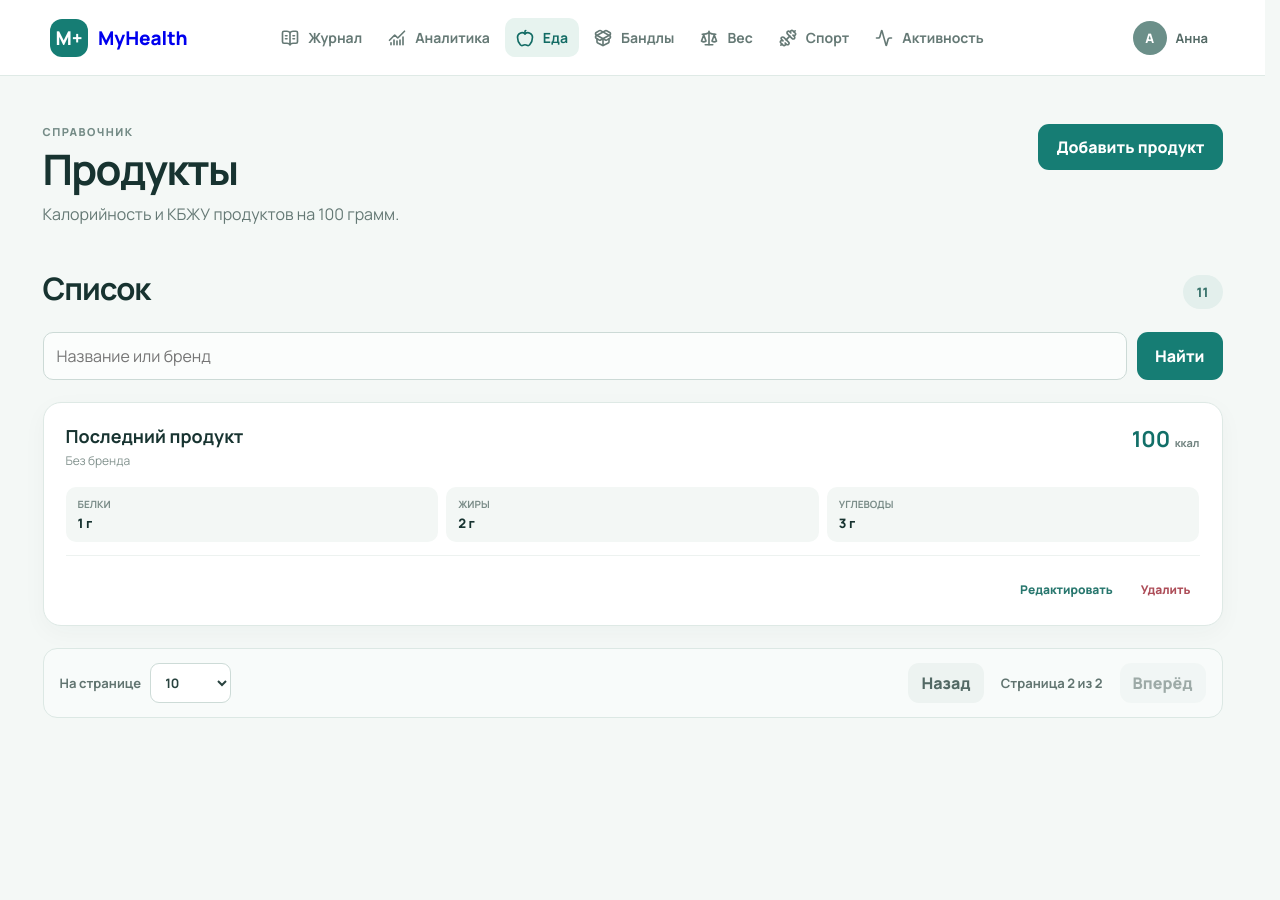
Test: удаление с последней страницы каталога › переходит на последнюю существующую страницу
Expected: the heading "Последний продукт" is shown, [66,424,244,448]
Click the button "Удалить" at (1166, 589), box [1132,569,1200,609]
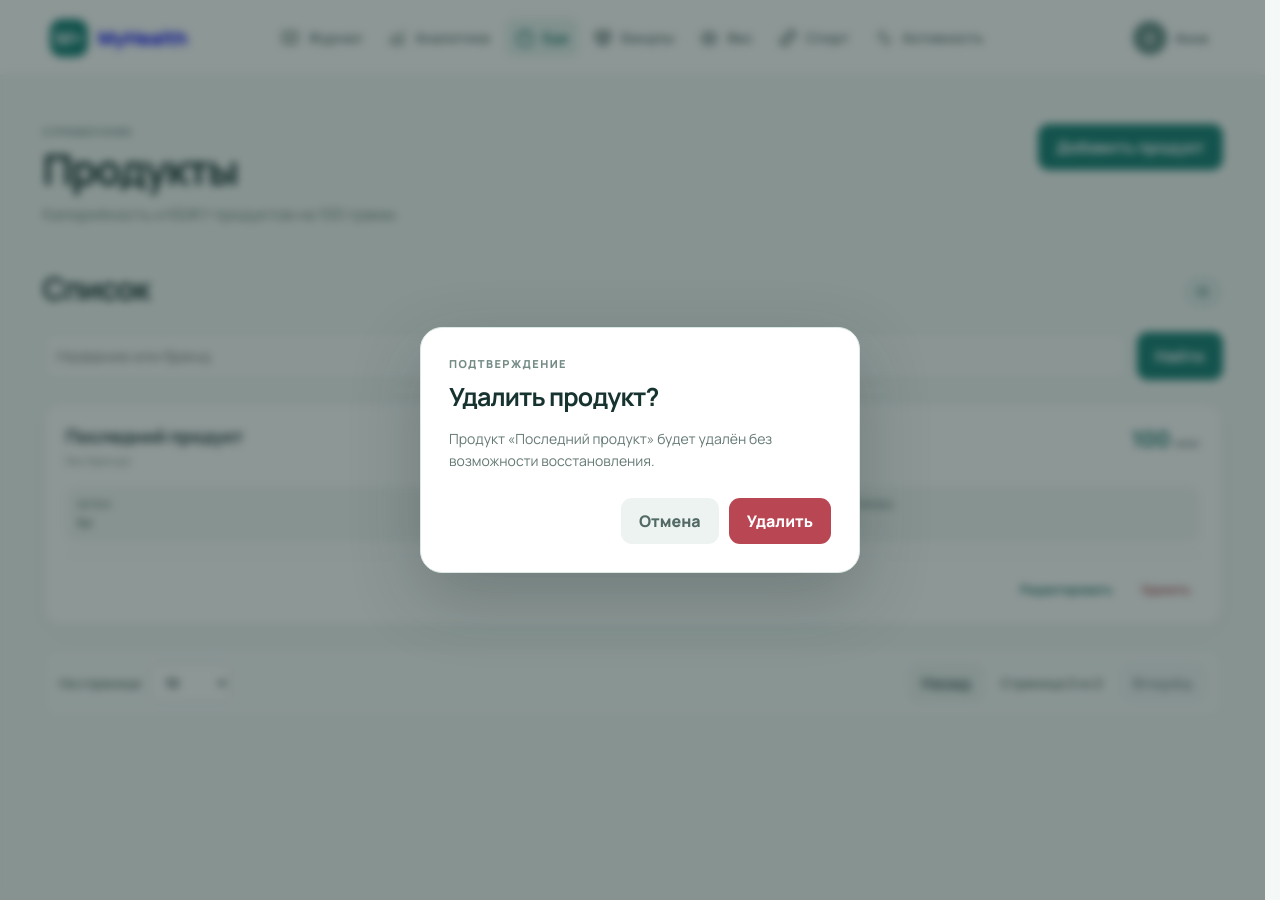
Click the button "Удалить" at (780, 521), box [729,498,831,544]
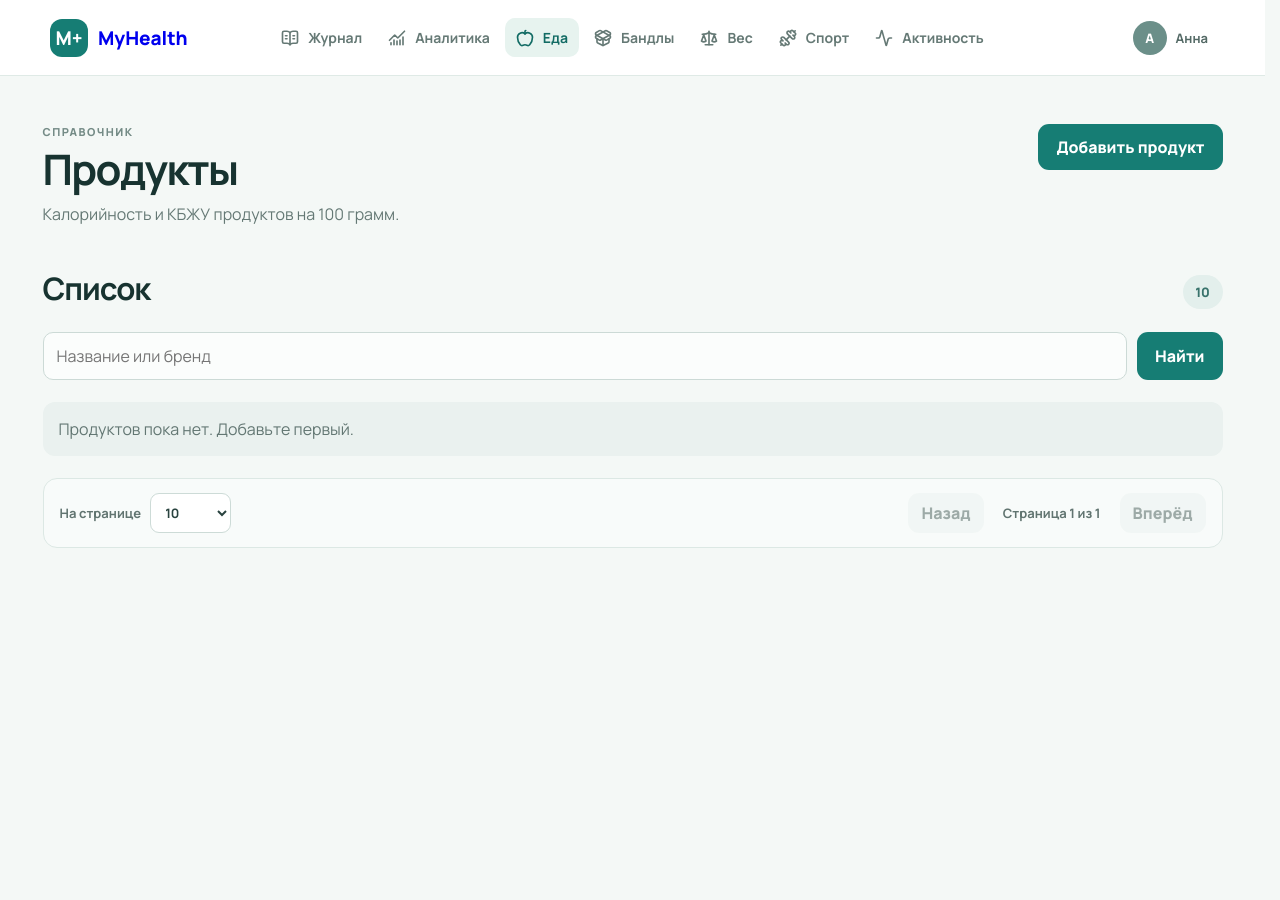
Expected: the text "Страница 1 из 1" is shown, [996,504,1108,522]
